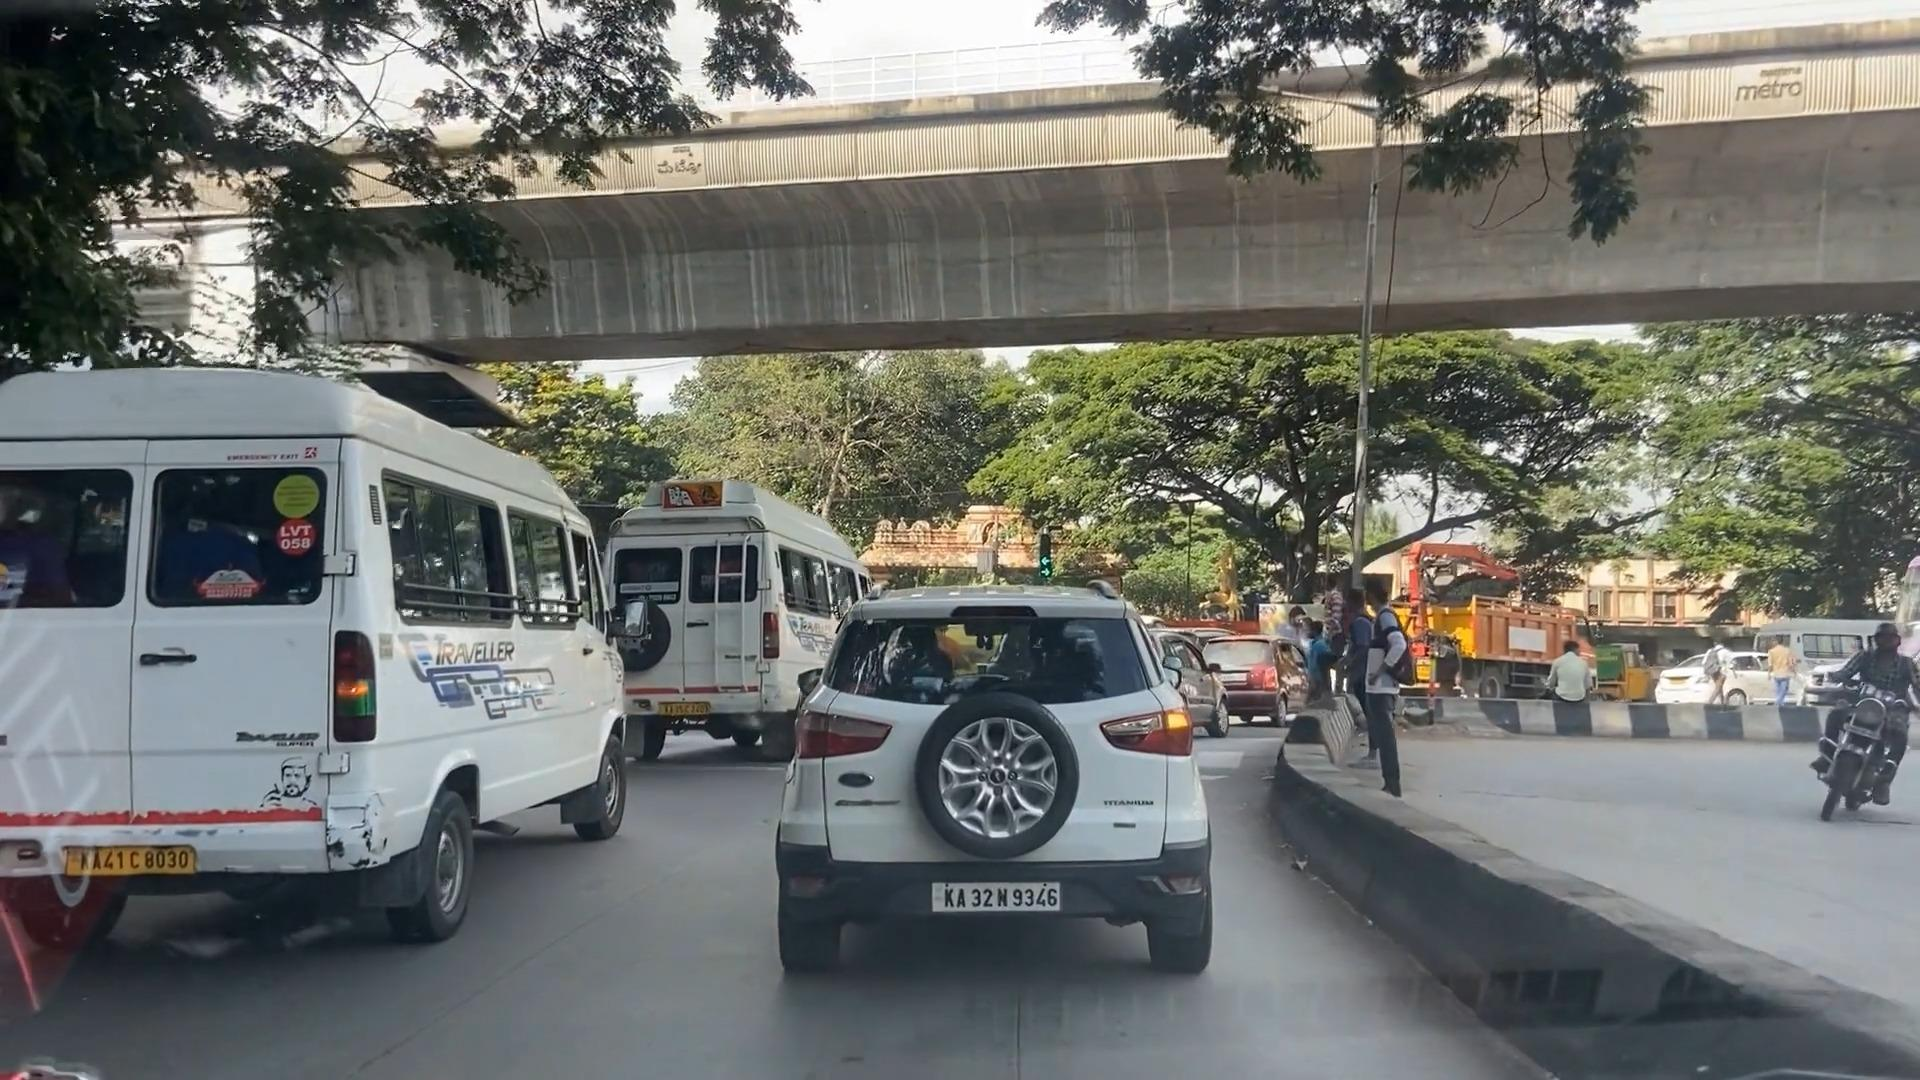HMV: (0, 398, 629, 932), (655, 488, 818, 744)
LMV: (786, 575, 1213, 984)
